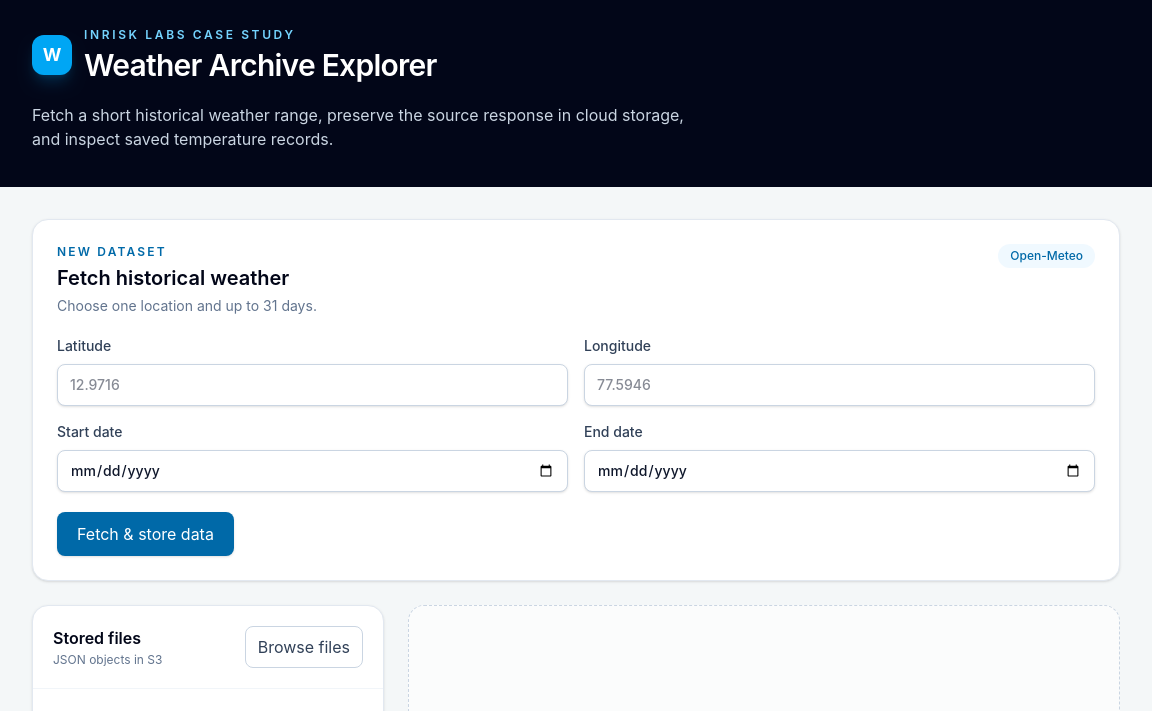
Test: weather explorer › shows a useful empty state when the bucket has no files
Click the button "Browse files" at x=304, y=647, box 245,626 -> 363,668
(page scrolled)
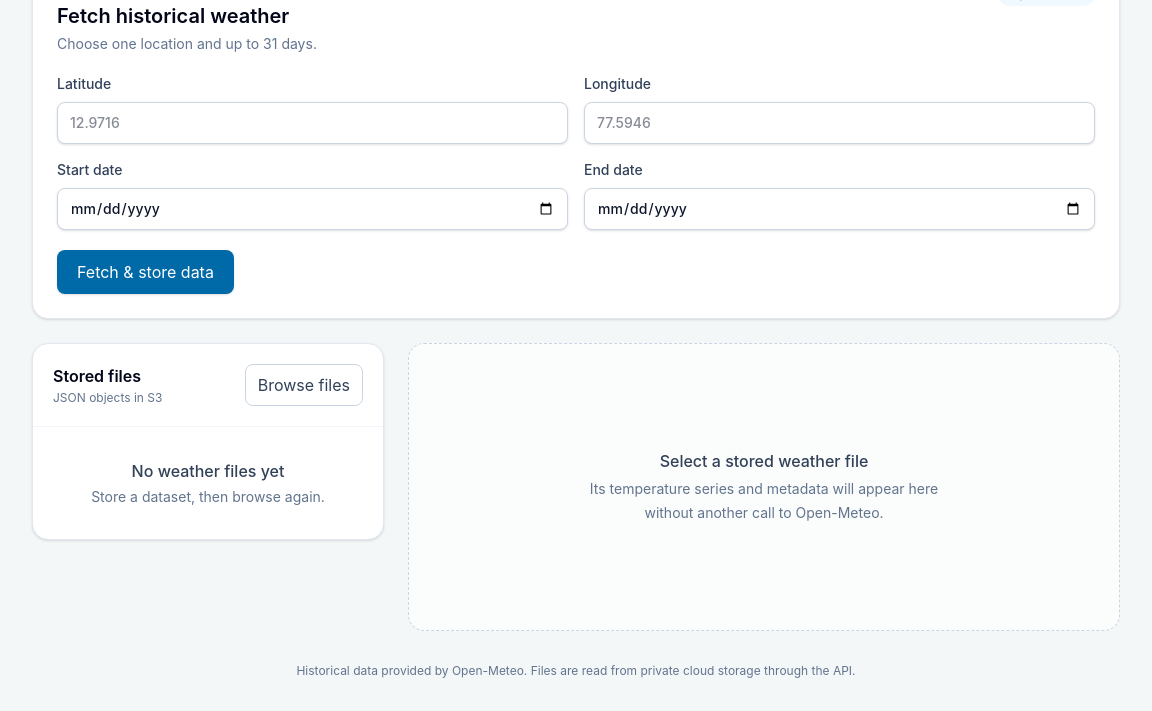
Expected: the text "No weather files yet" is shown, 132,461 -> 284,481
